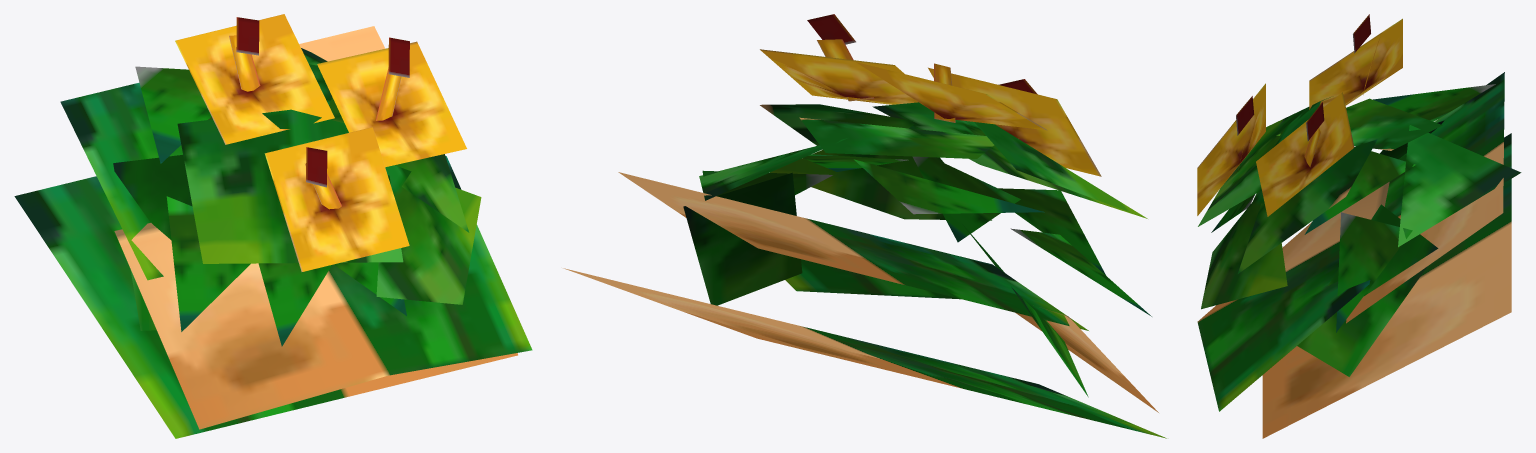
File: fg_bushD_2_ye.dae
3 views of the same model, side by side, from view 1: azimuth 30°, elevation 25°; view 2: azimuth 150°, elevation 25°; view 3: azimuth 270°, elevation 25° (orthographic). The views are drawn at different scales.
Visible parts, largest first — view 1: fg_bushD_2_ye; view 2: fg_bushD_2_ye; view 3: fg_bushD_2_ye.
Part boxes in pixels (x1,y1,x2,y2): fg_bushD_2_ye: [14, 14, 532, 438]; fg_bushD_2_ye: [563, 14, 1166, 438]; fg_bushD_2_ye: [1197, 14, 1521, 438].
Size of the model in its own units: 47.83 by 40.3 by 36.53.
1 material, 1 textured.
